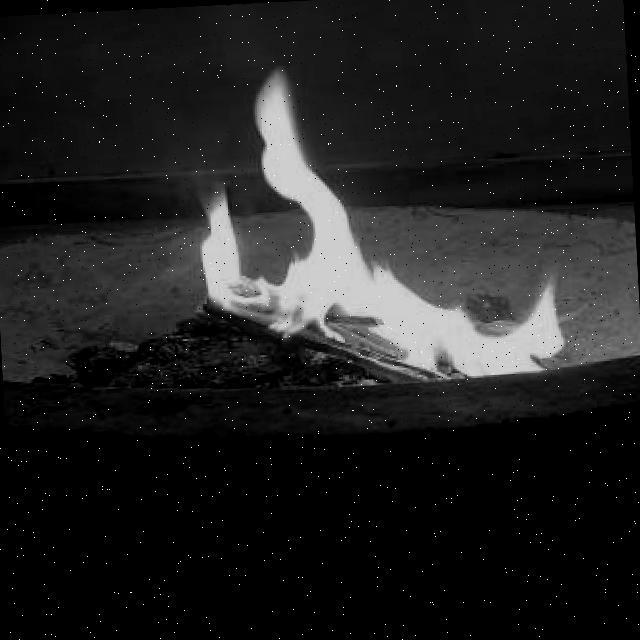Fire: (187, 53, 573, 392)
